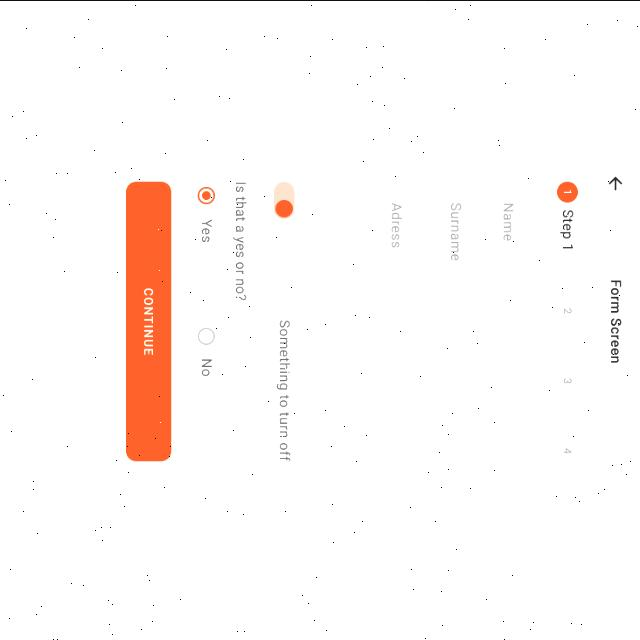QLabel: (276, 314, 292, 464), (234, 176, 248, 300), (609, 275, 623, 363), (144, 285, 154, 357), (560, 208, 576, 248), (200, 216, 216, 240), (200, 356, 213, 376)
VAppBar: (592, 164, 640, 476)
VBtn: (125, 178, 171, 460)
VIcon: (606, 172, 624, 190)
VRadio: (197, 183, 217, 205), (198, 324, 216, 344)
VStepper: (0, 164, 586, 476)
VSwitch: (272, 180, 296, 218)
VTextField: (489, 178, 527, 460), (436, 179, 474, 459)
VTextarea: (314, 179, 422, 459)
